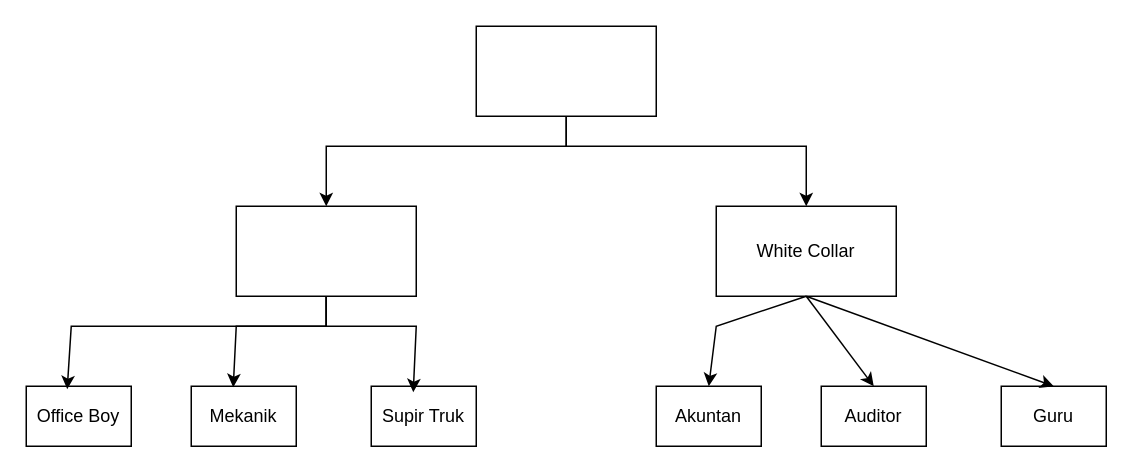
The diagram is 1133 pixels wide and 473 high, and some of its shapes have lost their labels. The box of each missing label's shape, as (x1, y1, x2, y2) in pixels:
Blue Collar: (235, 205, 416, 296)
Pekerjaan: (475, 25, 656, 116)
